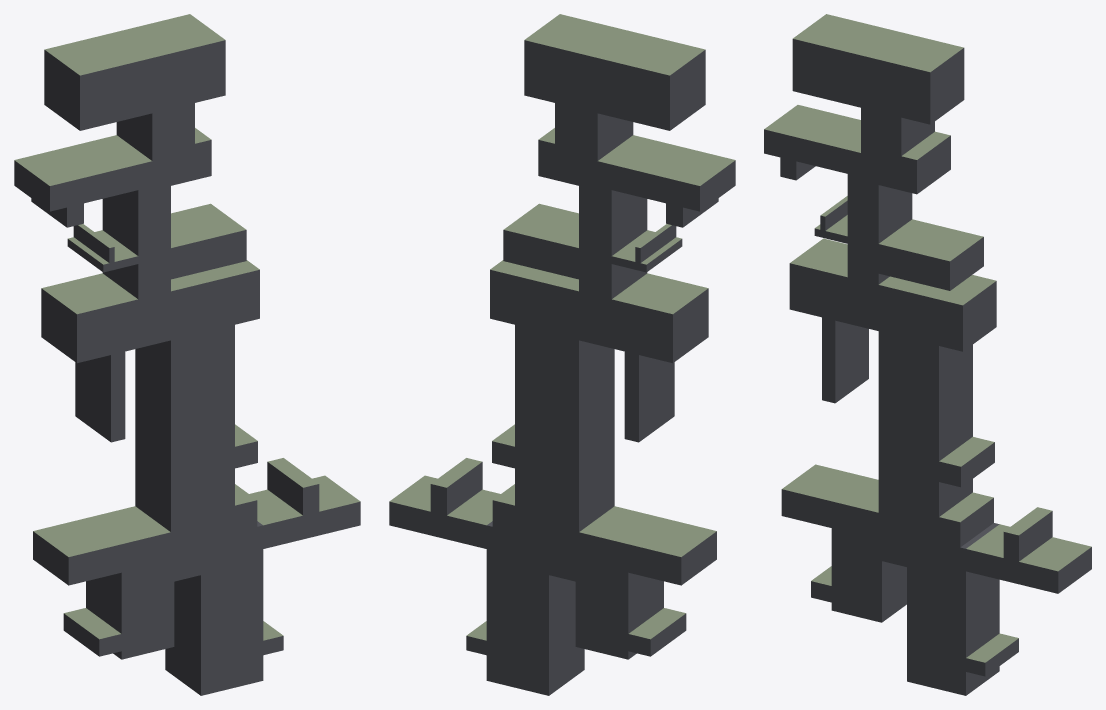
Rendered from PlaneBlock.fbx.
3 renders of one model, left to right at view 1: azimuth 30°, elevation 25°; view 2: azimuth 150°, elevation 25°; view 3: azimuth 330°, elevation 25°, orthographic. The views are drawn at different scales.
Visible parts, largest first — view 1: pCube1; view 2: pCube1; view 3: pCube1.
Boxes of the visible parts, x1,y1,x2,y2 form: pCube1: (14, 14, 360, 695); pCube1: (389, 14, 735, 695); pCube1: (764, 14, 1091, 695).
Size of the model in its own units: 491 by 980 by 97.48.
